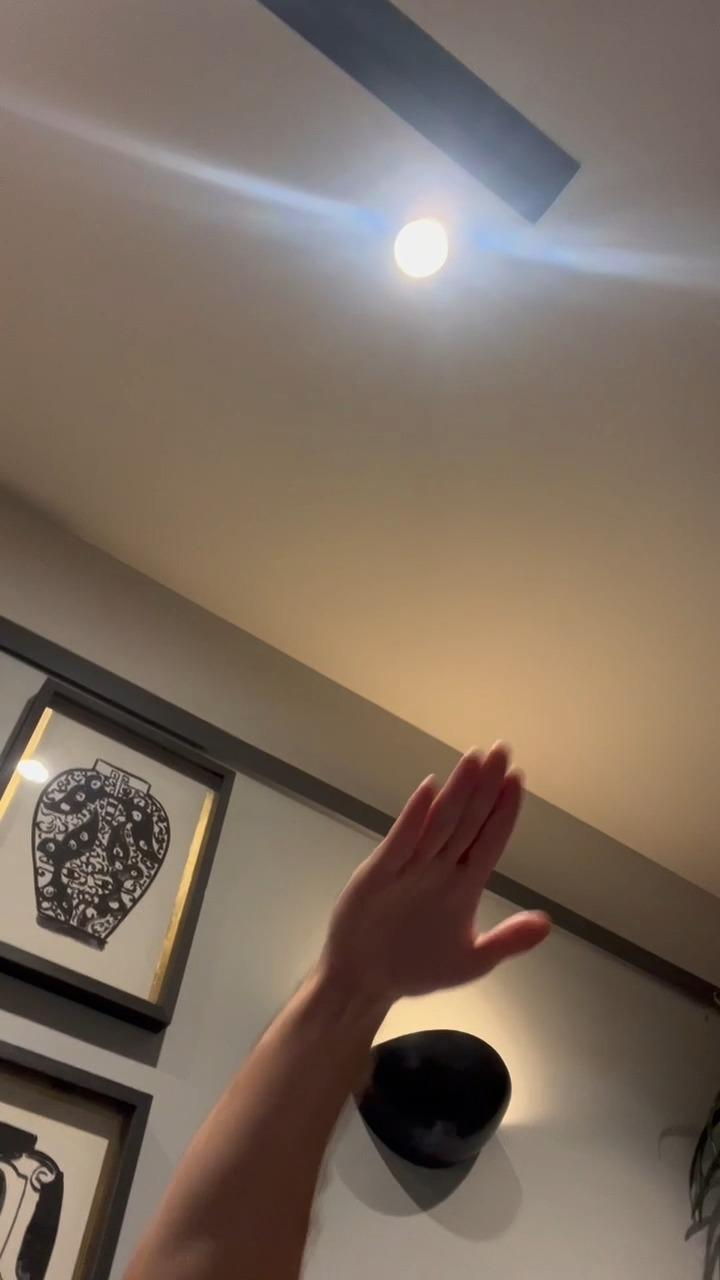Paper: (328, 738, 555, 1003)
